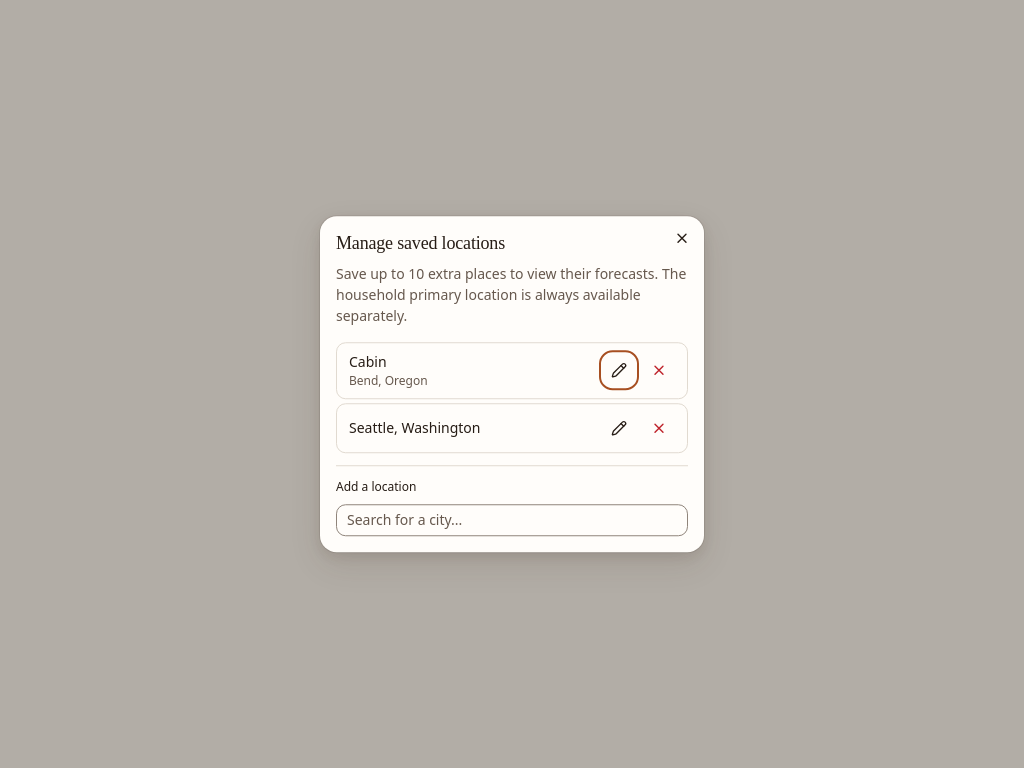
Scenario: ManageLocationsDialog › labels the save and cancel buttons while renaming
What coordinates should you click on to do the following:
click the button named "Rename Cabin"
I would click on:
 (619, 370)
Its box is [603,354,635,386].
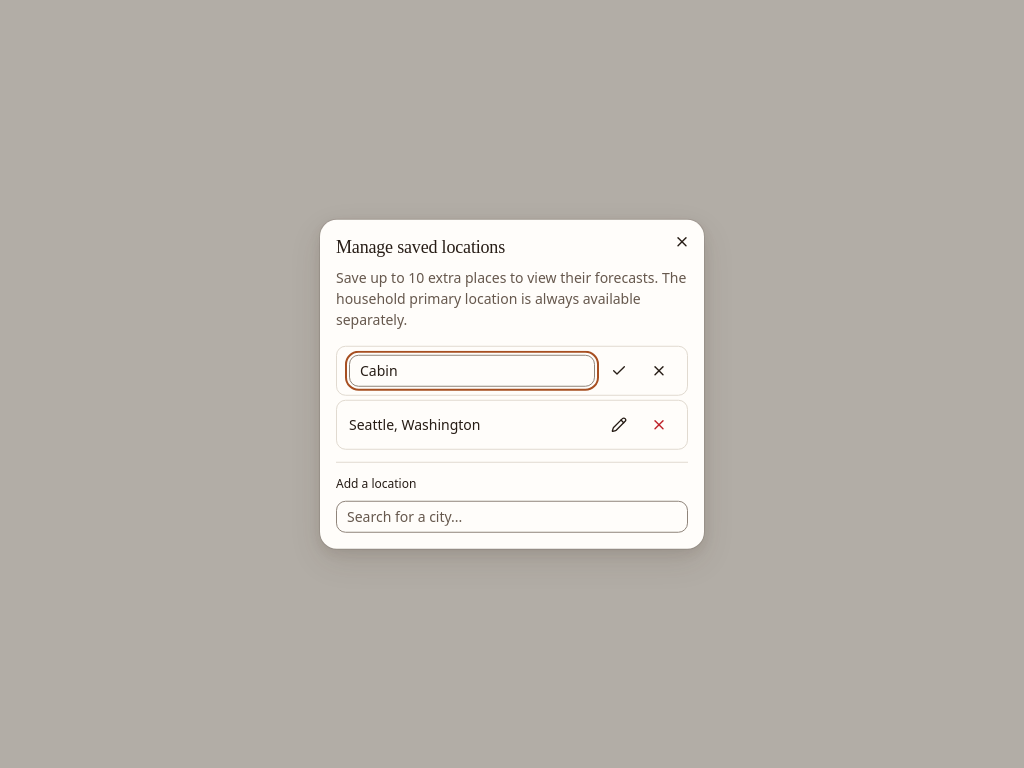
Expected: the field named "Location name" is shown, [349,354,595,386]
Expected: the button named "Save name" is shown, [603,354,635,386]
Expected: the button named "Cancel rename" is shown, [643,354,675,386]
